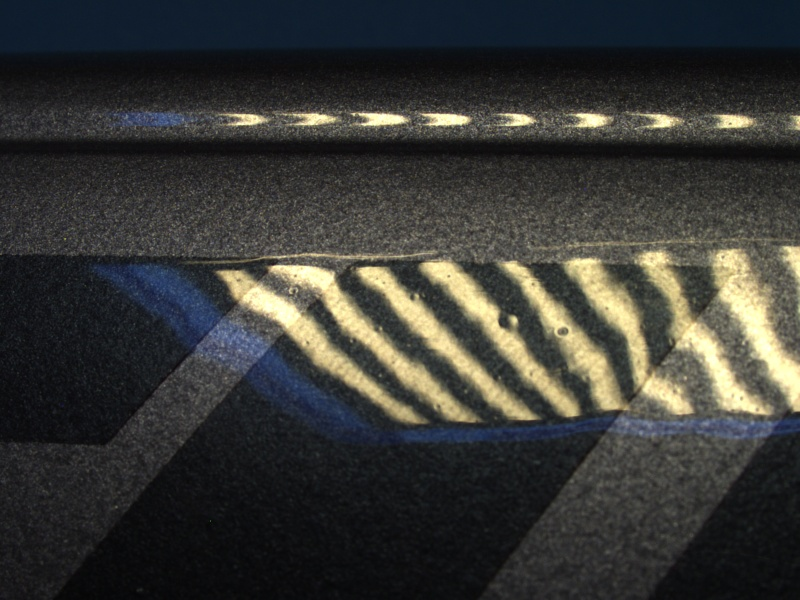bad: (492, 305, 525, 338), (547, 318, 576, 344)
